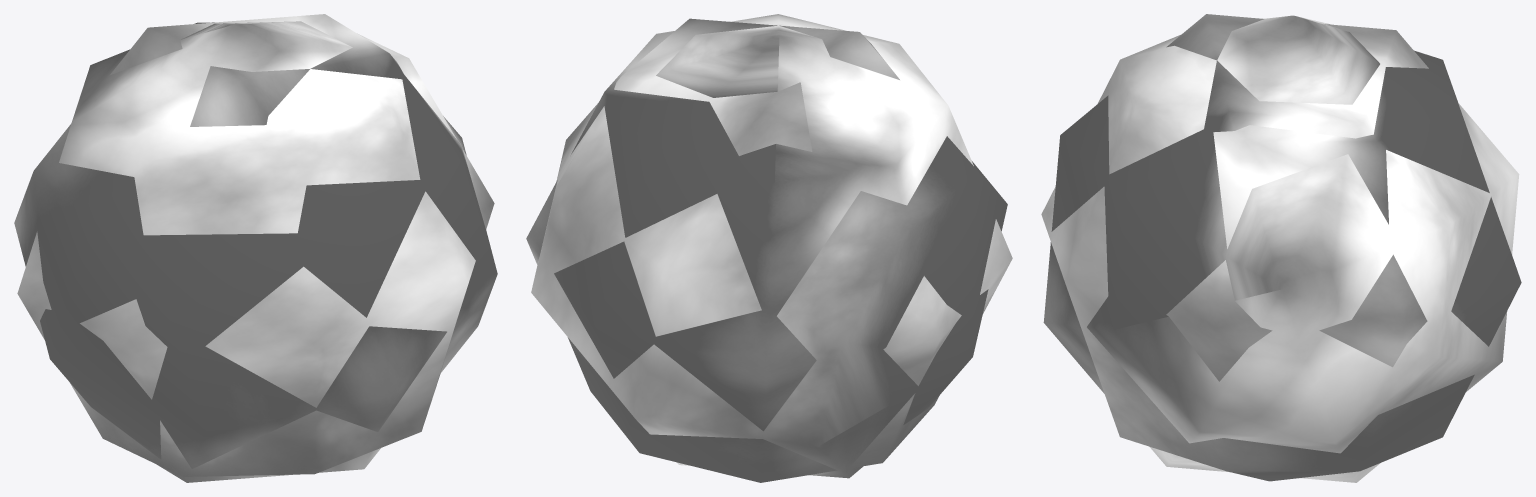
The model's file is smokeball.glb.
3 views of the same model, side by side, from view 1: azimuth 30°, elevation 25°; view 2: azimuth 150°, elevation 25°; view 3: azimuth 270°, elevation 25° (orthographic). The views are drawn at different scales.
Visible parts, largest first — view 1: Sphere.001; view 2: Sphere.001; view 3: Sphere.001.
Boxes of the visible parts, <box> form: Sphere.001: <box>14,14,497,482</box>; Sphere.001: <box>526,14,1012,482</box>; Sphere.001: <box>1041,14,1521,482</box>.
Size of the model in its own units: 1.93 by 1.99 by 1.93.
1 material, 1 textured.
